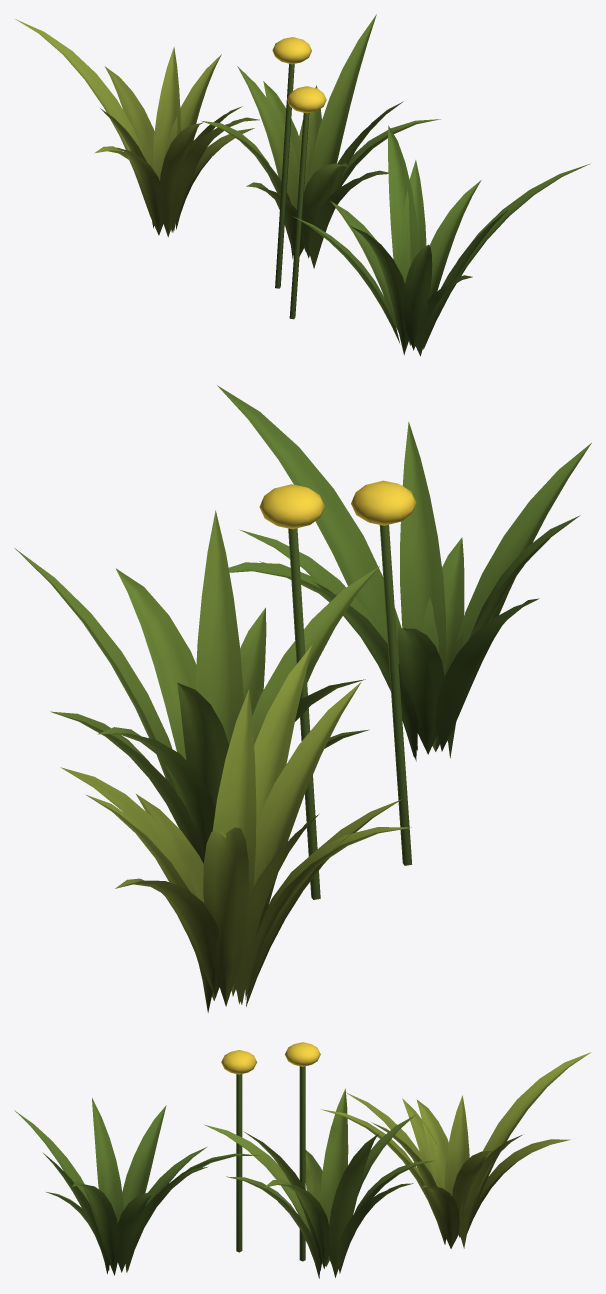
File: yd_weeds__228.glb
3 renders of one model, top to bottom at view 1: azimuth 30°, elevation 25°; view 2: azimuth 150°, elevation 25°; view 3: azimuth 270°, elevation 25°, orthographic. The views are drawn at different scales.
Visible parts, largest first — view 1: prop_yd_weeds; view 2: prop_yd_weeds; view 3: prop_yd_weeds.
Part boxes in pixels (bbox=[...]): prop_yd_weeds: bbox=[15, 14, 590, 356]; prop_yd_weeds: bbox=[14, 385, 591, 1012]; prop_yd_weeds: bbox=[14, 1042, 591, 1278].
Size of the model in its own units: 0.4293 by 0.3253 by 0.7675.
